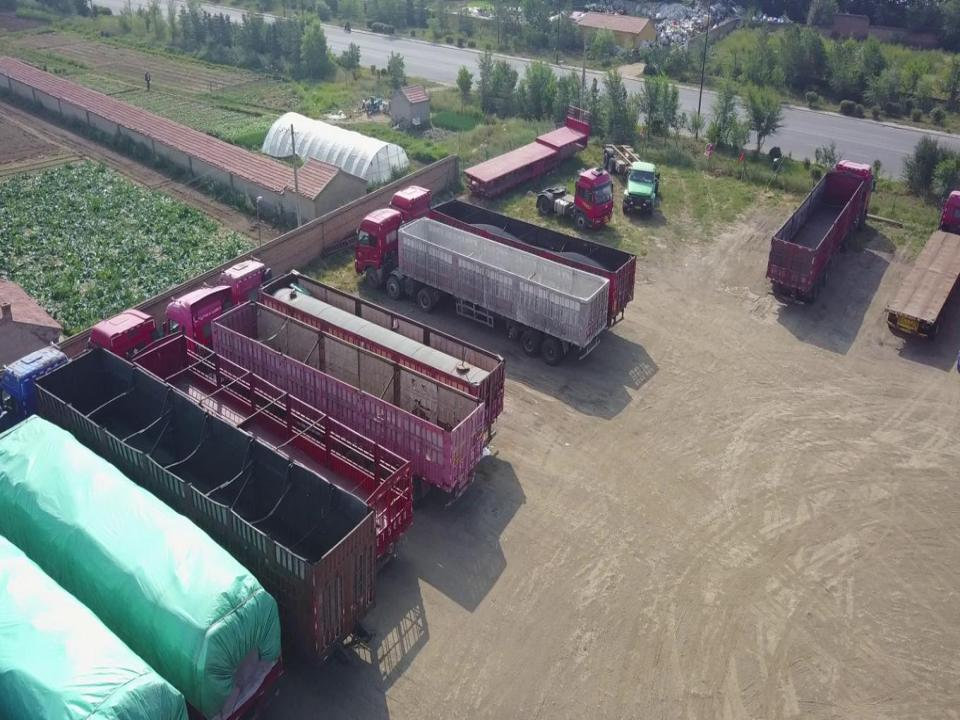truck: (5, 307, 374, 642), (74, 287, 414, 561), (158, 268, 486, 490), (208, 239, 505, 425), (354, 201, 604, 365), (385, 172, 639, 328), (757, 157, 876, 312), (884, 174, 960, 345), (532, 158, 616, 222), (601, 136, 667, 214)
